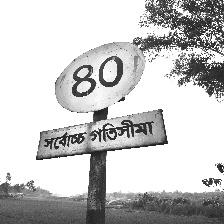Speed-limit: (38, 41, 164, 161)
